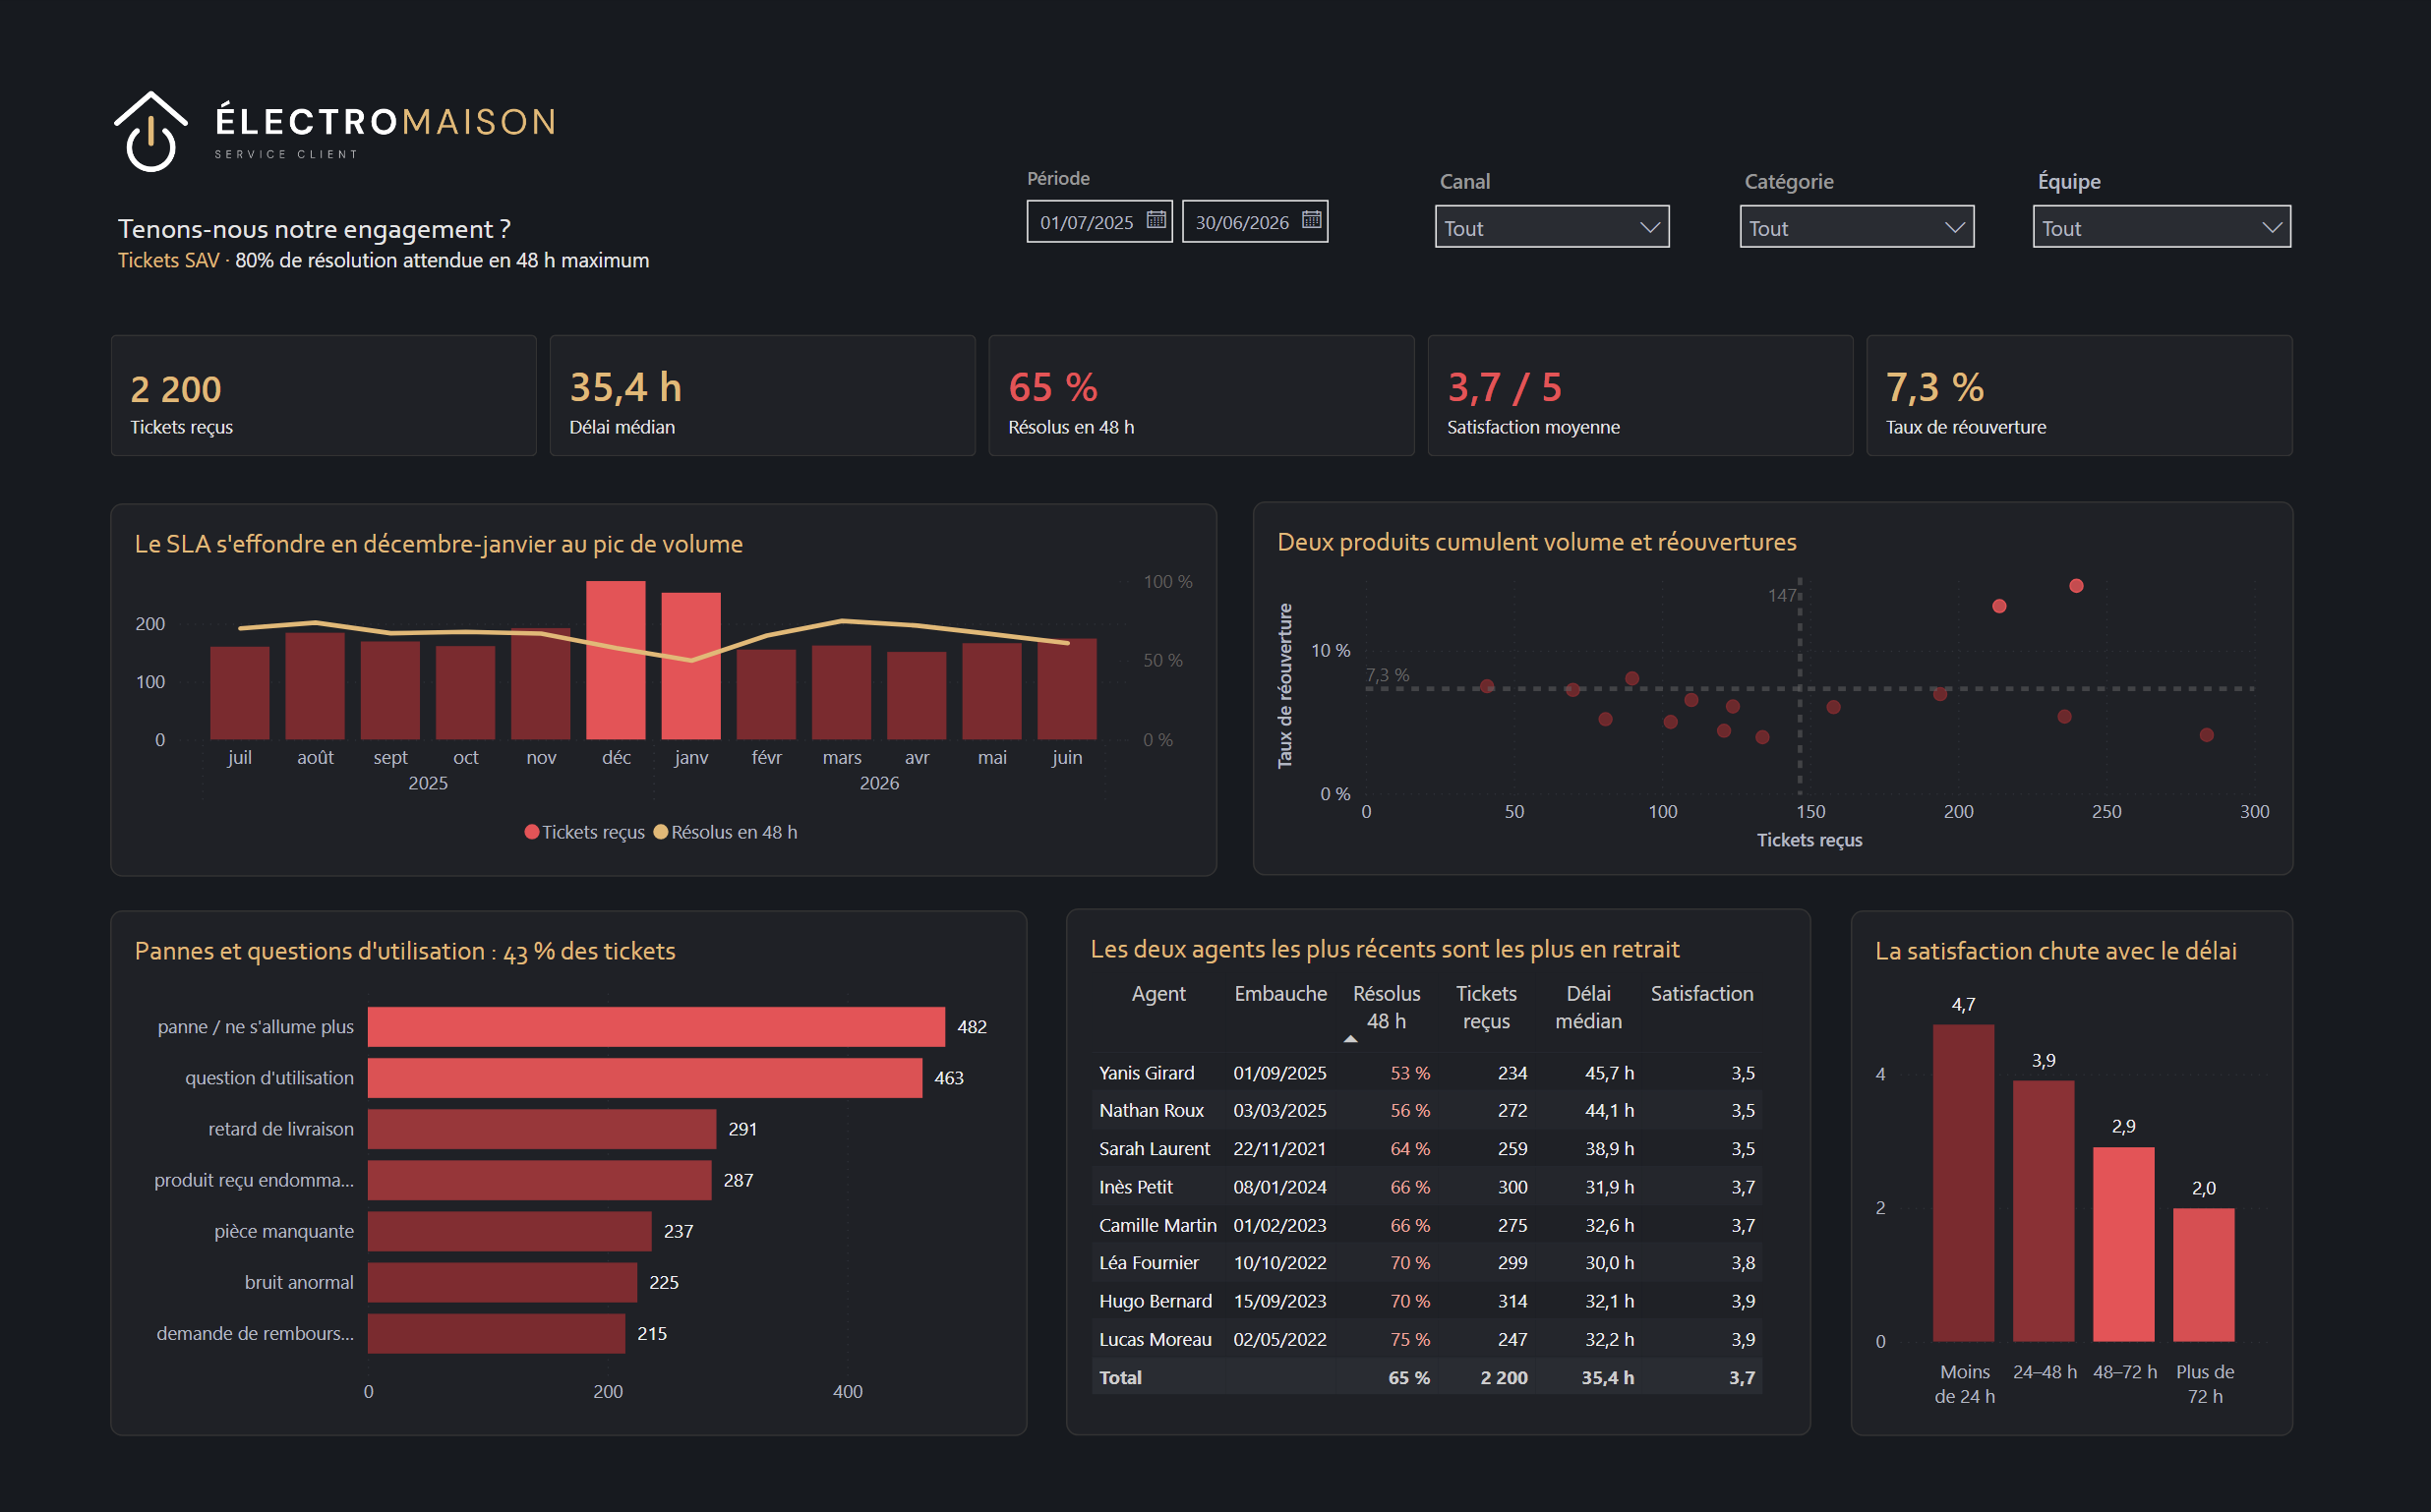

Layout of this report page (visuals, bound fields, positions):
{"tool":"powerbi","page":{"name":"Service client","canvas":[1600,1000],"ordinal":0},"visuals":[{"type":"cardVisual","fields":{"Data":["Mesures.Nb ticket","Mesures.Moyenne délai","Mesures.Tickets dans SLA perc","Mesures.Taux satisfaction moyen","Mesures.Réouverture perc"]},"box":[58.1,206.5,1468.4,114.8],"z":0},{"type":"lineStackedColumnComboChart","title":"Le SLA s''effondre en décembre-janvier au pic de volume","fields":{"Category":["Dim_Calendrier.Hiérarchie date.Année","Dim_Calendrier.Hiérarchie date.Mois"],"Y":["Mesures.Tickets reçus"],"Y2":["Mesures.Taux de tickets dans SLA"]},"box":[75.2,333.6,726.7,245],"z":1000},{"type":"barChart","title":"Pannes et questions d''utilisation : 43 % des tickets","fields":{"Category":["Fact_Tickets.Motif"],"Y":["Mesures.Tickets reçus"]},"box":[75.2,600.8,601.9,345],"z":2000},{"type":"slicer","fields":{"Values":["Dim_Calendrier.Date"]},"box":[663.2,107.1,245.2,69.7],"z":3000},{"type":"scatterChart","title":"Deux produits cumulent volume et réouvertures","fields":{"Category":["Dim_Produits.Nom_Produit"],"Y":["Mesures.Taux de réouverture"],"X":["Mesures.Tickets reçus"]},"box":[825.1,333.3,683,245.7],"z":4000},{"type":"tableEx","title":"Les deux agents les plus récents sont les plus en retrait","fields":{"Values":["Dim_Agents.Nom_Agent","Dim_Agents.Date_Embauche","Mesures.Taux de tickets dans SLA","Mesures.Tickets reçus","Mesures.Délai médian","Mesures.Satisfaction moyenne"]},"box":[701.9,600,489,345.8],"z":5000},{"type":"columnChart","title":"La satisfaction chute avec le délai","fields":{"Category":["Fact_Tickets.Tranche_Delai"],"Y":["Mesures.Satisfaction moyenne"]},"box":[1217.4,600.8,290.7,345],"z":6000},{"type":"textbox","box":[74.8,131.6,240,46.5],"z":7000},{"type":"slicer","fields":{"Values":["Fact_Tickets.Canal"]},"box":[934,108.5,173.8,75],"z":8000},{"type":"slicer","fields":{"Values":["Dim_Produits.Categorie"]},"box":[1134,108.5,173.8,75],"z":9000},{"type":"slicer","fields":{"Values":["Dim_Agents.Equipe"]},"box":[1326.5,108.4,189.7,74.8],"z":10000},{"type":"textbox","box":[74.8,136.8,380.6,56.8],"z":11000},{"type":"image","box":[31,49,379.4,82.6],"z":12000}]}

Visuals, with their boxes in screenshot pixels (x1, y1, x2, y2), scaled from the page's 1600x1000 canvas onto the 2431x1512 screenshot:
cardVisual - Mesures.Nb ticket x Mesures.Moyenne délai: 89/313/2319/486
"Le SLA s''effondre en décembre-janvier au pic de volume" lineStackedColumnComboChart: 114/504/1218/875
"Pannes et questions d''utilisation : 43 % des tickets" barChart: 114/908/1029/1430
slicer - Dim_Calendrier.Date: 1008/162/1380/267
"Deux produits cumulent volume et réouvertures" scatterChart: 1254/504/2291/876
"Les deux agents les plus récents sont les plus en retrait" tableEx: 1066/907/1809/1430
"La satisfaction chute avec le délai" columnChart: 1850/908/2291/1430
textbox: 114/199/478/269
slicer - Fact_Tickets.Canal: 1419/164/1684/277
slicer - Dim_Produits.Categorie: 1723/164/1987/277
slicer - Dim_Agents.Equipe: 2015/164/2304/277
textbox: 114/206/692/293
image: 47/74/623/199
